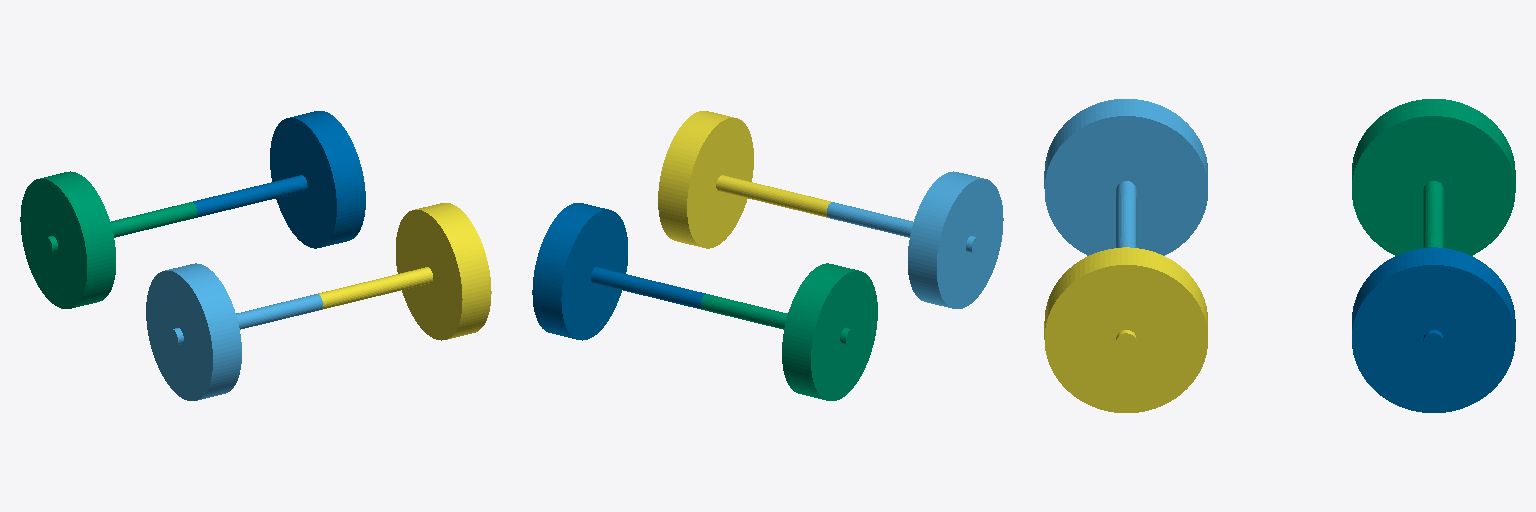
robot.urdf — amr:
<?xml version='1.0' encoding='utf-8'?>
<robot name="amr">
    <link name="base_link">
        <inertial>
            <origin xyz="0.0 8.902012997990435e-05 0.0005969174994691003" rpy="0.0 0.0 0.0" />
            <mass value="1.202294246159139" />
            <inertia ixx="0.0010272257194446465" iyy="0.0006030855335078637" izz="0.0015348560407595852" ixy="1.070930011337623e-18" iyz="-1.2070886413010125e-06" ixz="0.0" />
        </inertial>
        <visual name="base_link_visual">
            <origin xyz="0.0 0.0 0.0" rpy="0.0 0.0 0.0" />
            <geometry>
                <mesh filename="meshes/base_link.stl" scale="0.001 0.001 0.001" />
            </geometry>
        </visual>
        <collision name="base_link_collision">
            <origin xyz="0.0 0.0 0.0" rpy="0.0 0.0 0.0" />
            <geometry>
                <mesh filename="meshes/base_link.stl" scale="0.001 0.001 0.001" />
            </geometry>
        </collision>
    </link>
    <link name="r_wheel_link_1">
        <inertial>
            <origin xyz="1.5365486660812167e-14 0.0 -0.04167647058823525" rpy="0.0 -0.0 0.0" />
            <mass value="0.10481138490538972" />
            <inertia ixx="1.4602382285722345e-05" iyy="1.4602382288275587e-05" izz="1.9748468661930866e-05" ixy="1.1155520951601516e-20" iyz="-2.710505431213761e-20" ixz="-3.4078799147576644e-17" />
        </inertial>
        <visual name="r_wheel_link_1_visual">
            <origin xyz="0.0375 -4.440892098500626e-18 0.0" rpy="-1.5707963267948968 -1.5707963267948966 0" />
            <geometry>
                <mesh filename="meshes/r_wheel_link_1.stl" scale="0.001 0.001 0.001" />
            </geometry>
        </visual>
        <collision name="r_wheel_link_1_collision">
            <origin xyz="0.0375 -4.440892098500626e-18 0.0" rpy="-1.5707963267948968 -1.5707963267948966 0" />
            <geometry>
                <mesh filename="meshes/r_wheel_link_1.stl" scale="0.001 0.001 0.001" />
            </geometry>
        </collision>
    </link>
    <link name="r_wheel_link_2">
        <inertial>
            <origin xyz="0.0 -1.537880933710767e-14 -0.04167647058823525" rpy="0.0 -0.0 0.0" />
            <mass value="0.10481138490538972" />
            <inertia ixx="1.4602382288275532e-05" iyy="1.4602382285722263e-05" izz="1.9748468661930866e-05" ixy="0.0" iyz="3.412526337898125e-17" ixz="1.1155520951433573e-20" />
        </inertial>
        <visual name="r_wheel_link_2_visual">
            <origin xyz="-2.220446049250313e-18 0.03749999999999991 3.1086244689504386e-17" rpy="3.141592653589793 -1.570796326794896 0" />
            <geometry>
                <mesh filename="meshes/r_wheel_link_2.stl" scale="0.001 0.001 0.001" />
            </geometry>
        </visual>
        <collision name="r_wheel_link_2_collision">
            <origin xyz="-2.220446049250313e-18 0.03749999999999991 3.1086244689504386e-17" rpy="3.141592653589793 -1.570796326794896 0" />
            <geometry>
                <mesh filename="meshes/r_wheel_link_2.stl" scale="0.001 0.001 0.001" />
            </geometry>
        </collision>
    </link>
    <link name="l_wheel_link_1">
        <inertial>
            <origin xyz="0.0 -1.5365486660812167e-14 0.04167647058823525" rpy="0.0 -0.0 0.0" />
            <mass value="0.10481138490538972" />
            <inertia ixx="1.4602382288275587e-05" iyy="1.460238228572229e-05" izz="1.974846866193084e-05" ixy="-1.1155520951433573e-20" iyz="-3.4071053270356977e-17" ixz="0.0" />
        </inertial>
        <visual name="l_wheel_link_1_visual">
            <origin xyz="4.440892098500626e-18 -0.037500000000000235 -6.217248937900877e-17" rpy="-3.141592653589793 -1.570796326794895 0" />
            <geometry>
                <mesh filename="meshes/l_wheel_link_1.stl" scale="0.001 0.001 0.001" />
            </geometry>
        </visual>
        <collision name="l_wheel_link_1_collision">
            <origin xyz="4.440892098500626e-18 -0.037500000000000235 -6.217248937900877e-17" rpy="-3.141592653589793 -1.570796326794895 0" />
            <geometry>
                <mesh filename="meshes/l_wheel_link_1.stl" scale="0.001 0.001 0.001" />
            </geometry>
        </collision>
    </link>
    <link name="l_wheel_link_2">
        <inertial>
            <origin xyz="0.0 -1.537880933710767e-14 0.041676470588235245" rpy="0.0 -0.0 0.0" />
            <mass value="0.10481138490538972" />
            <inertia ixx="1.4602382288275587e-05" iyy="1.460238228572229e-05" izz="1.9748468661930866e-05" ixy="0.0" iyz="-3.4098158324669114e-17" ixz="0.0" />
        </inertial>
        <visual name="l_wheel_link_2_visual">
            <origin xyz="0.0 0.03750000000000007 2.6645352591003756e-17" rpy="-3.141592653589793 -1.5707963267948961 0" />
            <geometry>
                <mesh filename="meshes/l_wheel_link_2.stl" scale="0.001 0.001 0.001" />
            </geometry>
        </visual>
        <collision name="l_wheel_link_2_collision">
            <origin xyz="0.0 0.03750000000000007 2.6645352591003756e-17" rpy="-3.141592653589793 -1.5707963267948961 0" />
            <geometry>
                <mesh filename="meshes/l_wheel_link_2.stl" scale="0.001 0.001 0.001" />
            </geometry>
        </collision>
    </link>
    <joint name="base_link_r_wheel_joint_1" type="continuous">
        <origin xyz="0.0 -0.0375 0.0" rpy="-3.141592653589793 -1.5707963267948966 0" />
        <parent link="base_link" />
        <child link="r_wheel_link_1" />
        <axis xyz="0.0 0.0 1.0" />
    </joint>
    <joint name="base_link_l_wheel_joint_1" type="continuous">
        <origin xyz="0.0 -0.0375 0.0" rpy="-3.141592653589793 -1.5707963267948966 0" />
        <parent link="base_link" />
        <child link="l_wheel_link_1" />
        <axis xyz="0.0 0.0 1.0" />
    </joint>
    <joint name="base_link_r_wheel_joint_2" type="continuous">
        <origin xyz="0.0 0.0375 0.0" rpy="-3.141592653589793 -1.5707963267948966 0" />
        <parent link="base_link" />
        <child link="r_wheel_link_2" />
        <axis xyz="0.0 0.0 1.0" />
    </joint>
    <joint name="base_link_l_wheel_joint_2" type="continuous">
        <origin xyz="0.0 0.0375 0.0" rpy="-3.141592653589793 -1.5707963267948966 0" />
        <parent link="base_link" />
        <child link="l_wheel_link_2" />
        <axis xyz="0.0 0.0 1.0" />
    </joint>
</robot>

--- What the picture shows (computed from the rendered views, not written in the file) ---
3 views of the same robot in one strip: view 1: azimuth 30°, elevation 25°; view 2: azimuth 150°, elevation 25°; view 3: azimuth 270°, elevation 25° (orthographic).
Robot: amr — 5 links, 4 joints (4 continuous); root link base_link; default pose: every joint at zero.
Links seen in each view (by area): view 1: r_wheel_link_1, r_wheel_link_2, l_wheel_link_2, l_wheel_link_1; view 2: r_wheel_link_2, r_wheel_link_1, l_wheel_link_1, l_wheel_link_2; view 3: l_wheel_link_1, l_wheel_link_2, r_wheel_link_2, r_wheel_link_1.
Boxes of the visible links, x1,y1,x2,y2 form: r_wheel_link_1: [146, 263, 322, 400]; r_wheel_link_2: [20, 171, 196, 308]; l_wheel_link_2: [193, 111, 365, 248]; l_wheel_link_1: [318, 203, 491, 340]; r_wheel_link_2: [701, 263, 877, 400]; r_wheel_link_1: [827, 171, 1003, 308]; l_wheel_link_1: [658, 111, 830, 248]; l_wheel_link_2: [532, 203, 705, 340]; l_wheel_link_1: [1044, 247, 1207, 412]; l_wheel_link_2: [1352, 247, 1515, 412]; r_wheel_link_2: [1352, 99, 1515, 255]; r_wheel_link_1: [1044, 99, 1207, 255].
Size in the robot's own frame: 0.1 by 0.115 by 0.04 metres.
4 mesh visuals loaded from 5 distinct referenced files (4 binary STL); not drawn: 1 (reference not matched to a file when rendering).
